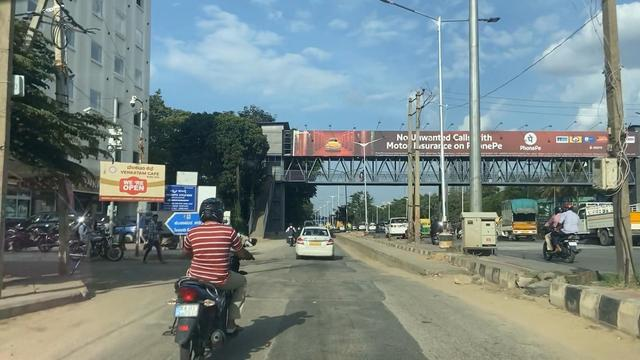LMV: (189, 200, 237, 349), (292, 223, 339, 261)
UnsurfacedRoad: (251, 267, 402, 315)
